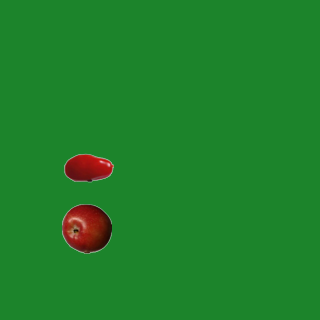Apple Braeburn: (61, 203, 111, 253)
Tomato 2: (63, 142, 113, 192)
